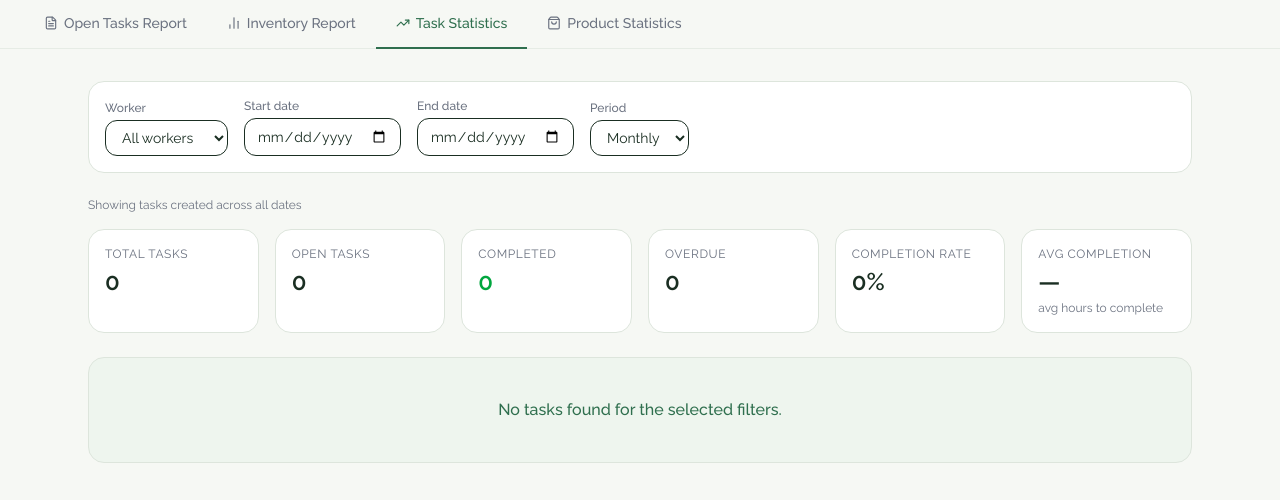
Task Statistics Report tab › shows date validation error for invalid range
The image size is (1280, 500).
Type "2026-06-01" into the date field with test id "filter-start-date". click: (322, 137)
box: left=244, top=118, right=401, bottom=156
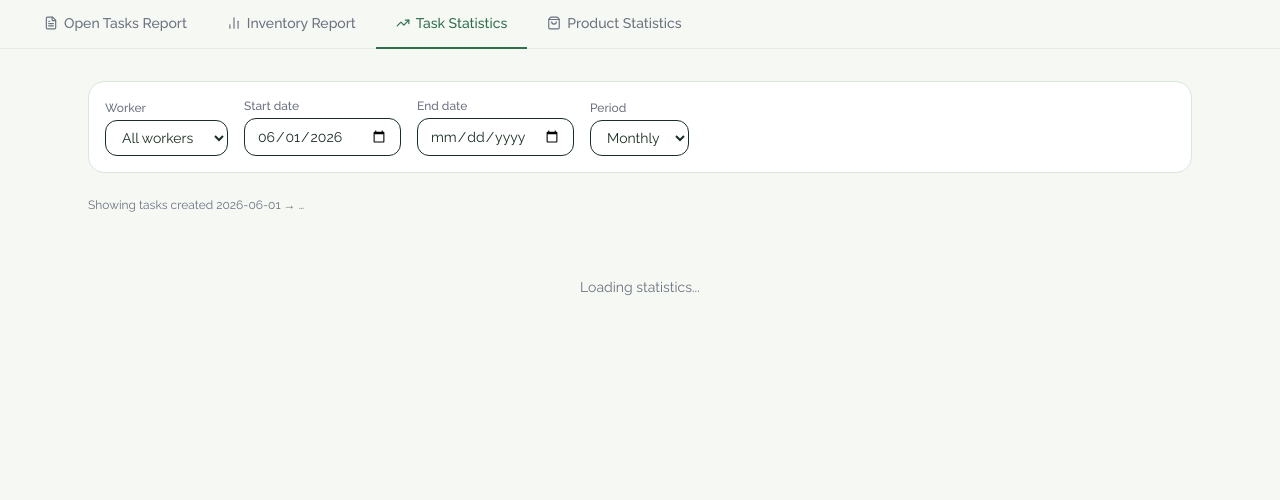
Type "2026-05-01" into the date field with test id "filter-end-date". click: (496, 137)
box: left=417, top=118, right=574, bottom=156
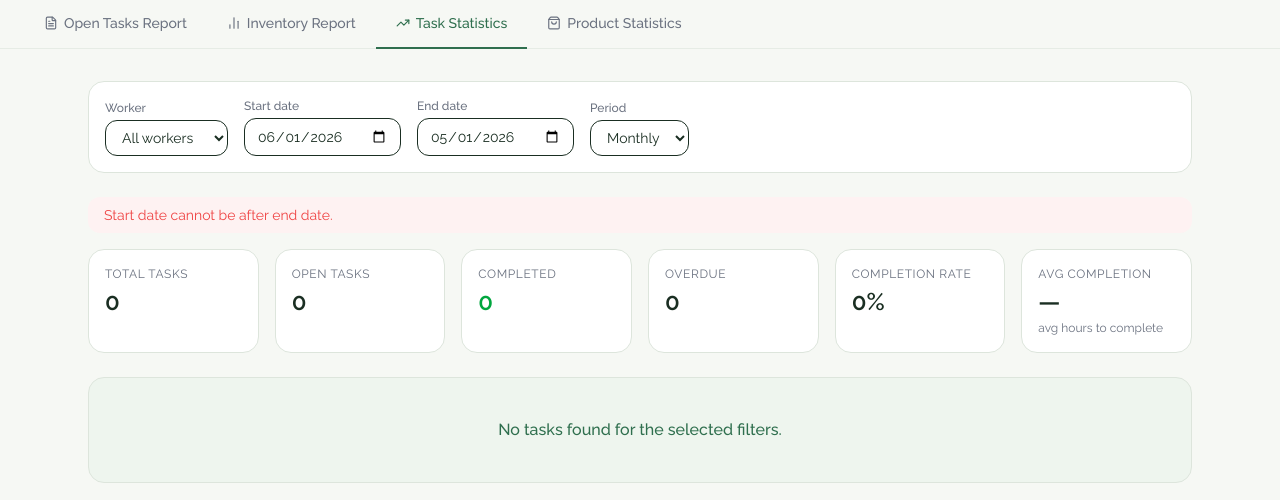
Check: the text "Start date cannot be after end date." is shown, box left=88, top=197, right=1192, bottom=233
